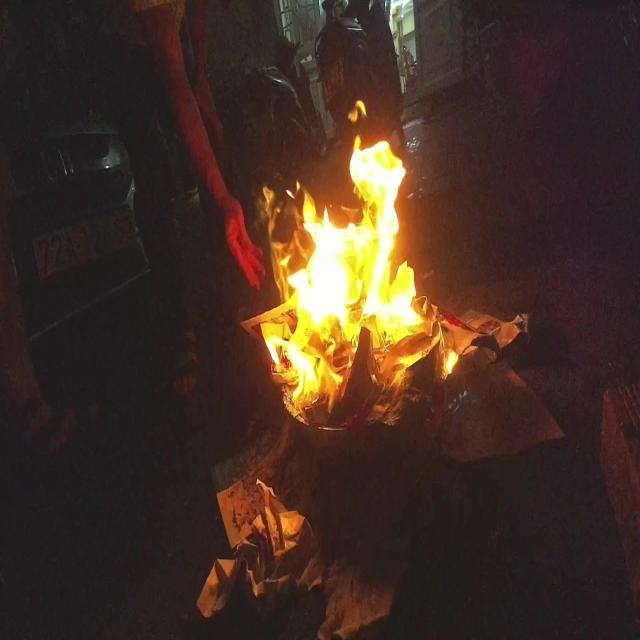Fire: (255, 96, 460, 402)
